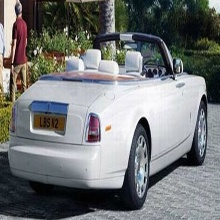no damage: (8, 32, 208, 210)
